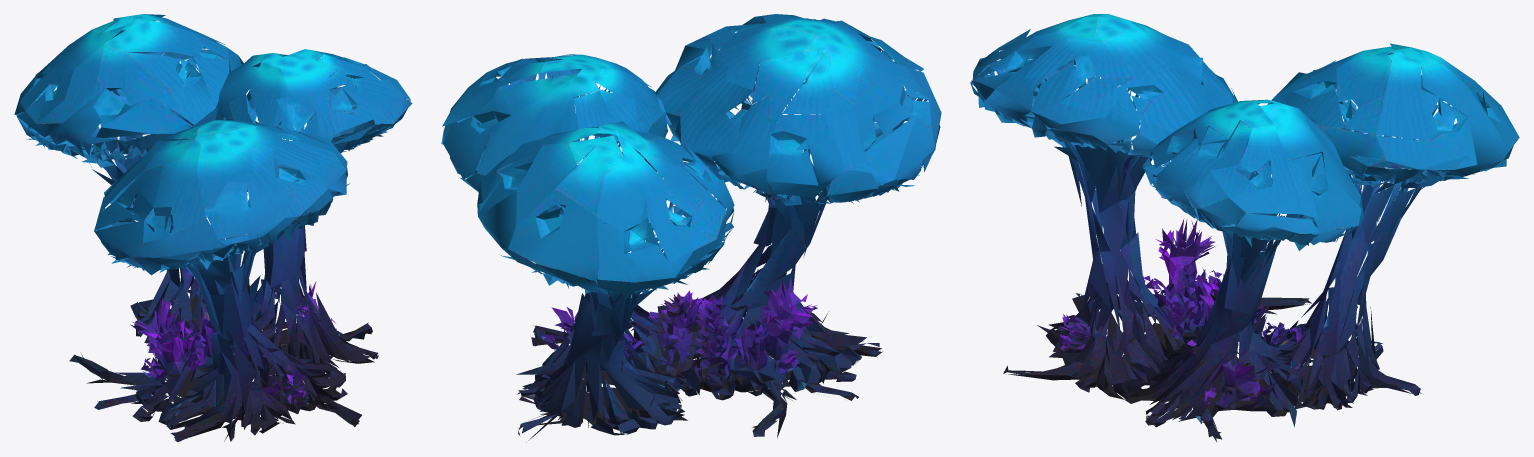
The model's file is fungus.glb.
3 renders of one model, left to right at view 1: azimuth 30°, elevation 25°; view 2: azimuth 150°, elevation 25°; view 3: azimuth 270°, elevation 25°, orthographic. The views are drawn at different scales.
Visible parts, largest first — view 1: Mesh_0; view 2: Mesh_0; view 3: Mesh_0.
Boxes of the visible parts, bbox=[...] form: Mesh_0: bbox=[14, 14, 412, 441]; Mesh_0: bbox=[441, 14, 941, 442]; Mesh_0: bbox=[970, 14, 1519, 441].
Size of the model in its own units: 1.2 by 0.9861 by 1.5.
1 material, 1 textured.
